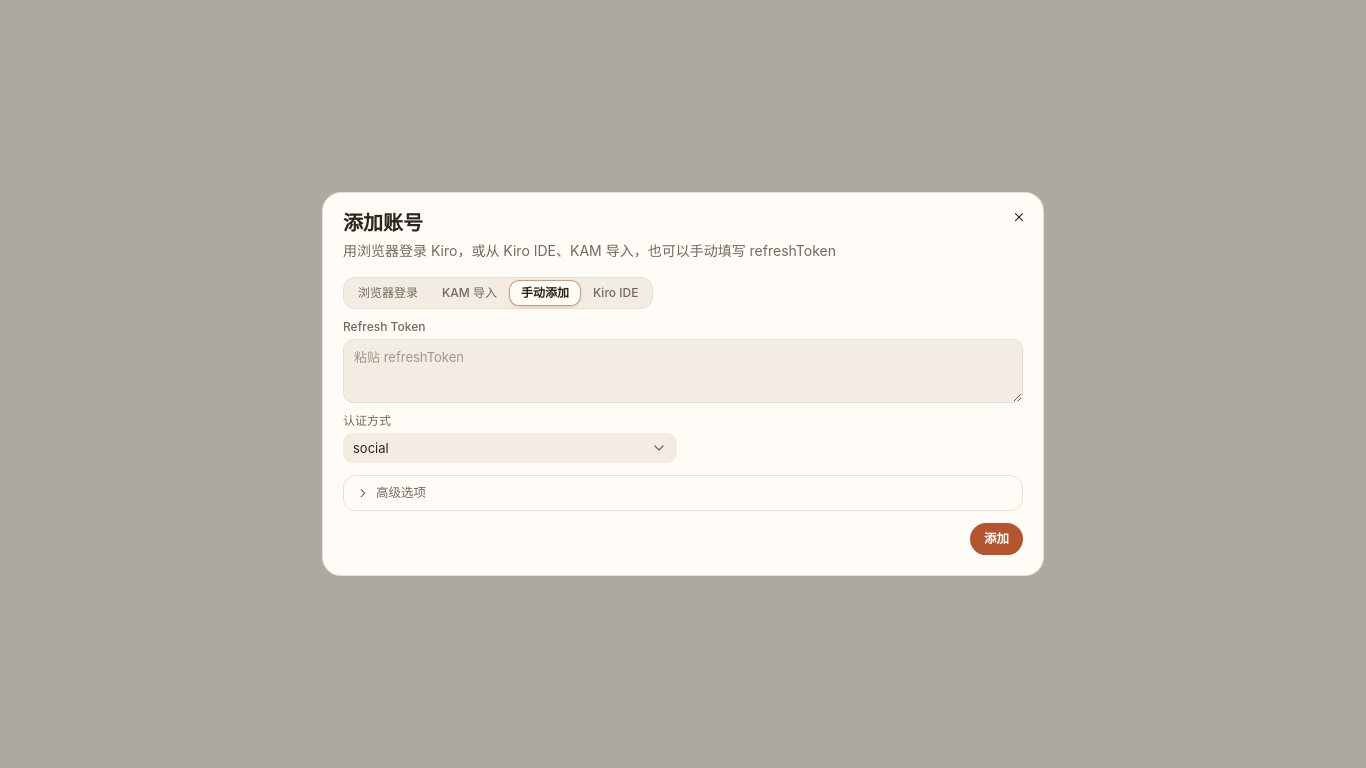
AddAccountDialog manual form › explains a missing refresh token next to the field instead of in a toast
Click the button "添加" at (996, 539), box [970, 523, 1023, 555]
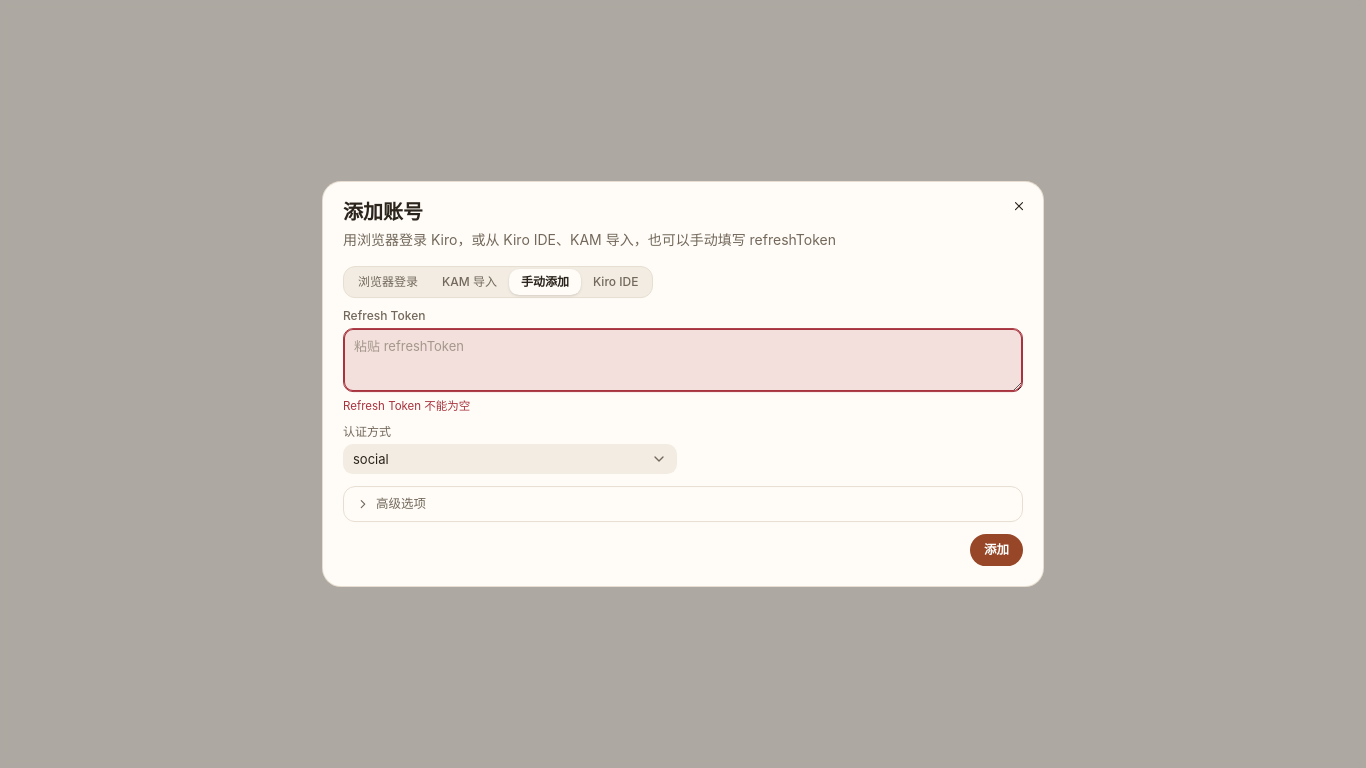
Now the message reads "Refresh Token 不能为空", box [343, 399, 470, 413]
